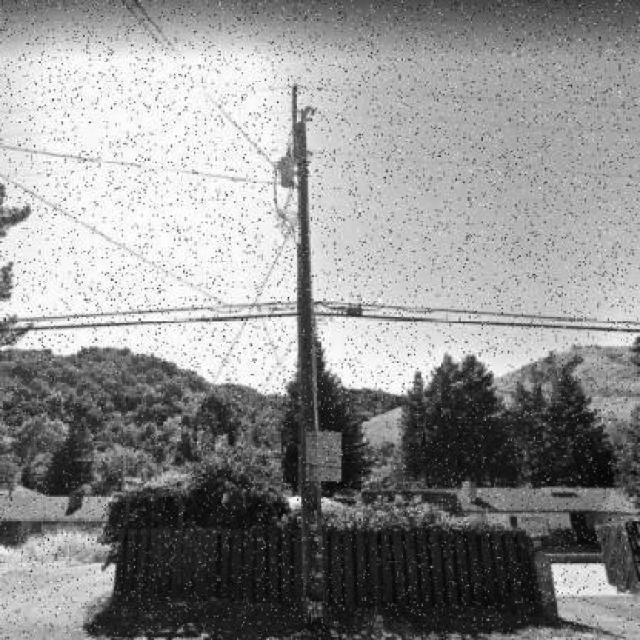pole: (293, 116, 328, 629)
transformer: (308, 429, 345, 491), (276, 151, 307, 191)
wire: (0, 173, 229, 304), (0, 300, 640, 325), (0, 312, 640, 333), (211, 232, 291, 383), (0, 144, 281, 186)
